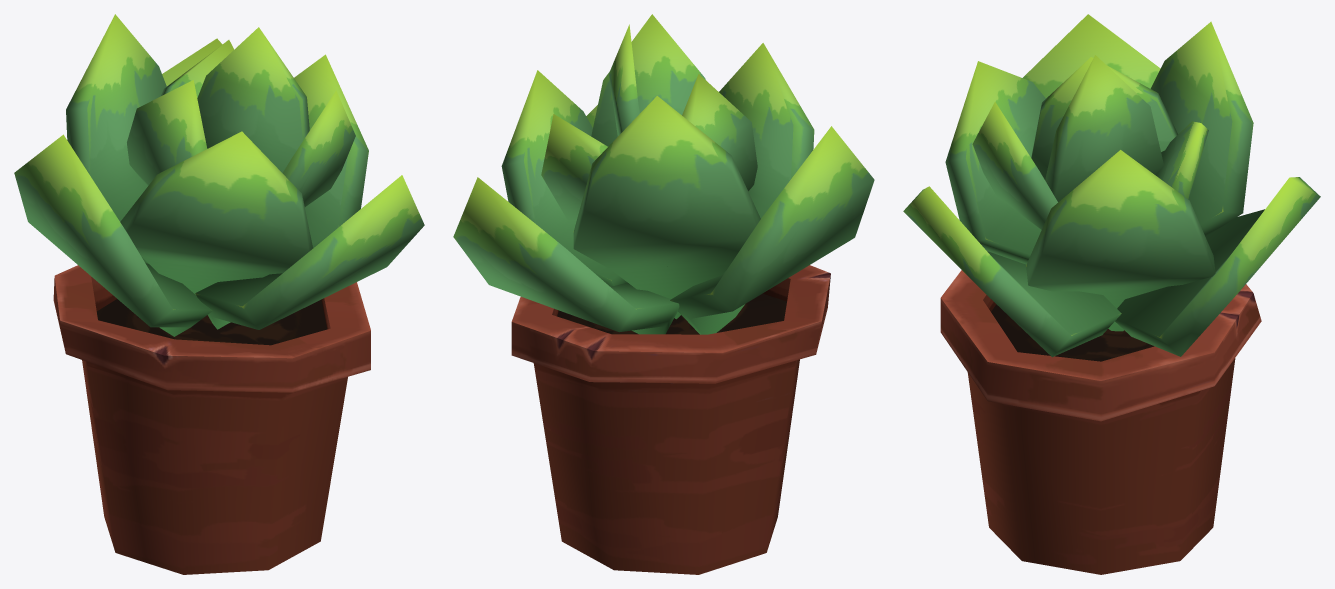
The model's file is SM_PROP_plant_interior_03.fbx.
3 views of the same model, side by side, from view 1: azimuth 30°, elevation 25°; view 2: azimuth 150°, elevation 25°; view 3: azimuth 270°, elevation 25° (orthographic).
Parts seen in each view (by area): view 1: SM_PROP_plant_interior_03; view 2: SM_PROP_plant_interior_03; view 3: SM_PROP_plant_interior_03.
Boxes of the visible parts, box(x1,y1,x2,y2) form: SM_PROP_plant_interior_03: box(14, 14, 424, 574); SM_PROP_plant_interior_03: box(453, 14, 874, 574); SM_PROP_plant_interior_03: box(903, 14, 1320, 574).
Size of the model in its own units: 25.45 by 38.42 by 29.45.
